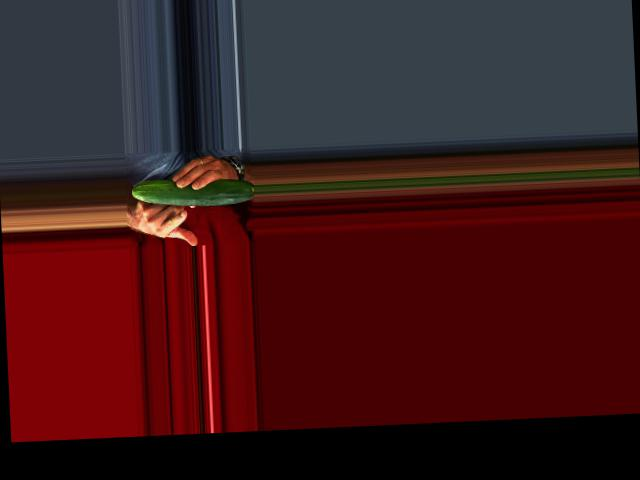cucumber: (131, 174, 255, 209)
